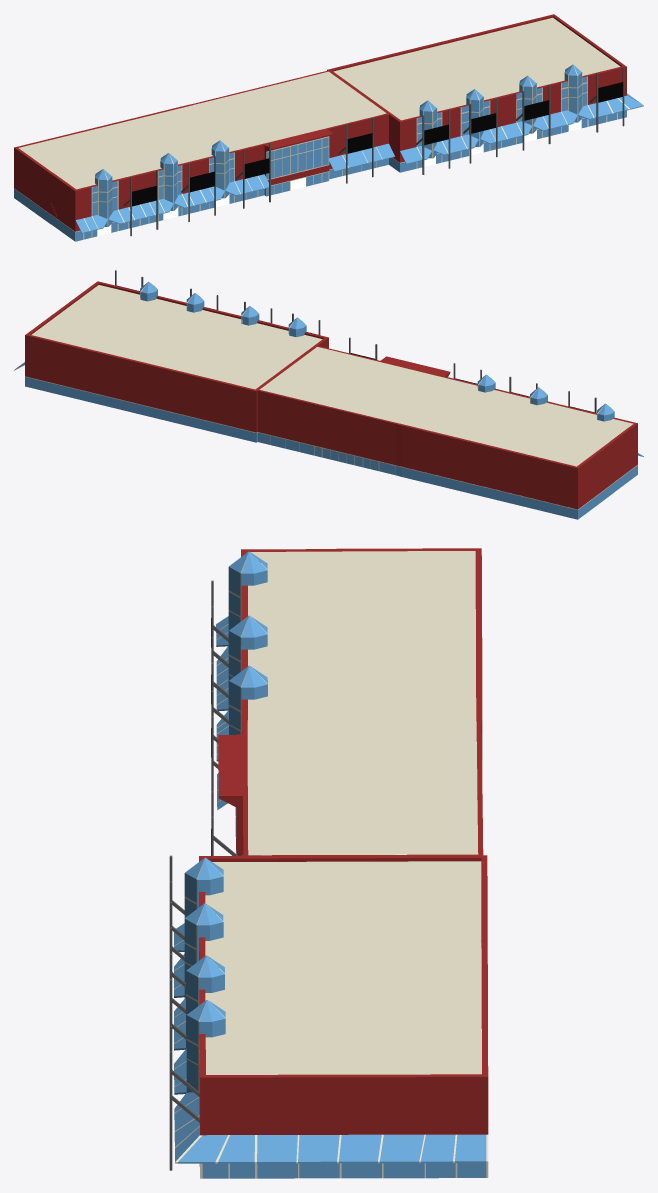
Rendered from goosens_WB.glb.
The picture shows the model from 3 angles, top to bottom: view 1: azimuth 30°, elevation 25°; view 2: azimuth 150°, elevation 25°; view 3: azimuth 270°, elevation 25°; orthographic projection. The views are drawn at different scales.
Parts seen in each view (by area): view 1: Cube.004; view 2: Cube.004; view 3: Cube.004.
Part boxes in pixels (left/top/right/bottom): Cube.004: left=14, top=14, right=643, bottom=241; Cube.004: left=14, top=270, right=643, bottom=519; Cube.004: left=169, top=548, right=488, bottom=1178.
Bounding box in the file's own units: 596 × 66.72 × 149.
